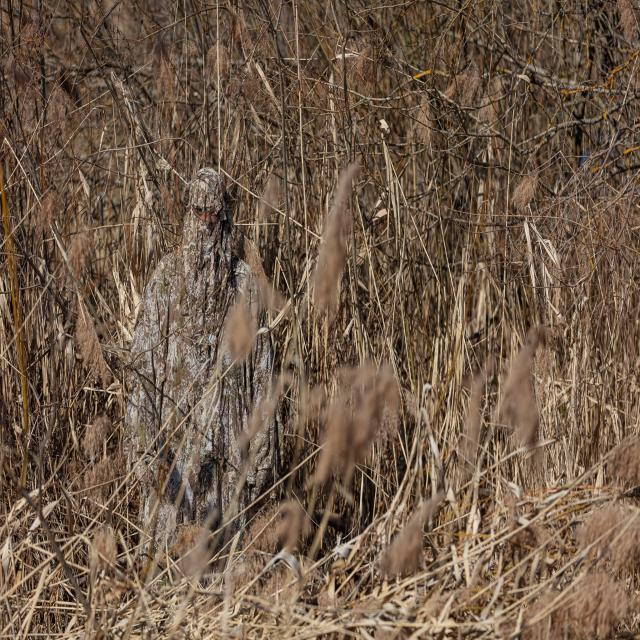Human: (122, 169, 276, 552)
